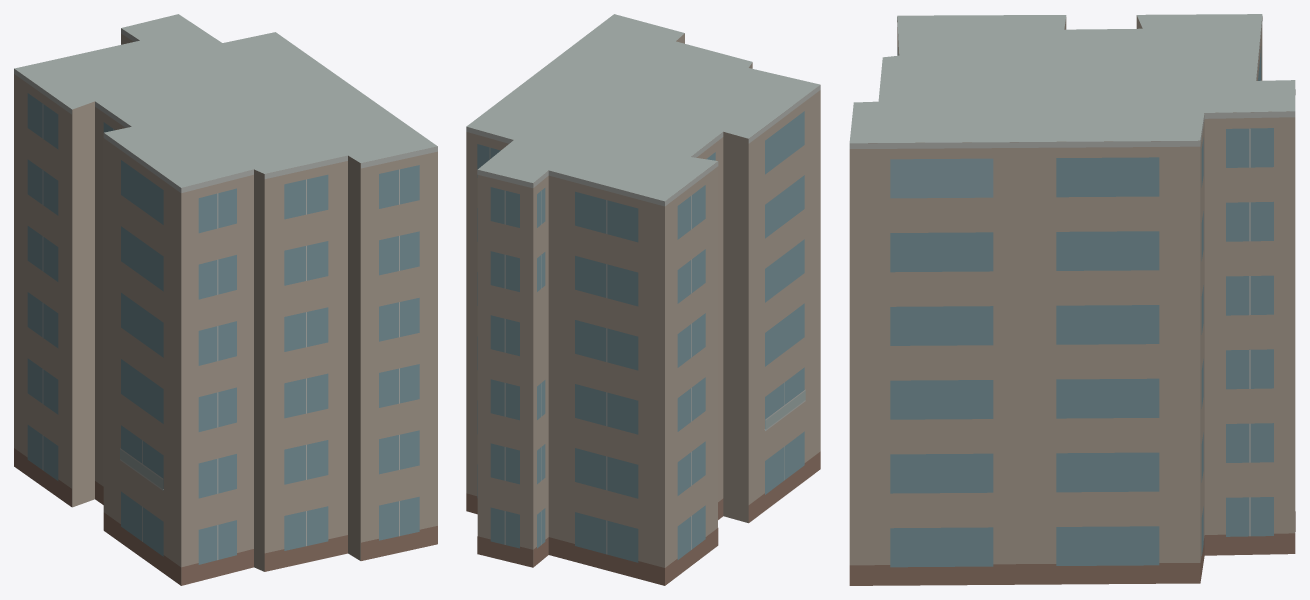
Rendered from survey-upis-32978444.glb.
The picture shows the model from 3 angles, left to right: view 1: azimuth 30°, elevation 25°; view 2: azimuth 150°, elevation 25°; view 3: azimuth 270°, elevation 25°; orthographic projection. The views are drawn at different scales.
Parts seen in each view (by area): view 1: survey-upis-32978444.tmp; view 2: survey-upis-32978444.tmp; view 3: survey-upis-32978444.tmp.
Boxes of the visible parts, x1,y1,x2,y2 form: survey-upis-32978444.tmp: (14,14,437,585); survey-upis-32978444.tmp: (466,14,820,585); survey-upis-32978444.tmp: (849,14,1295,585).
Size of the model in its own units: 11.47 by 18.3 by 16.72.
